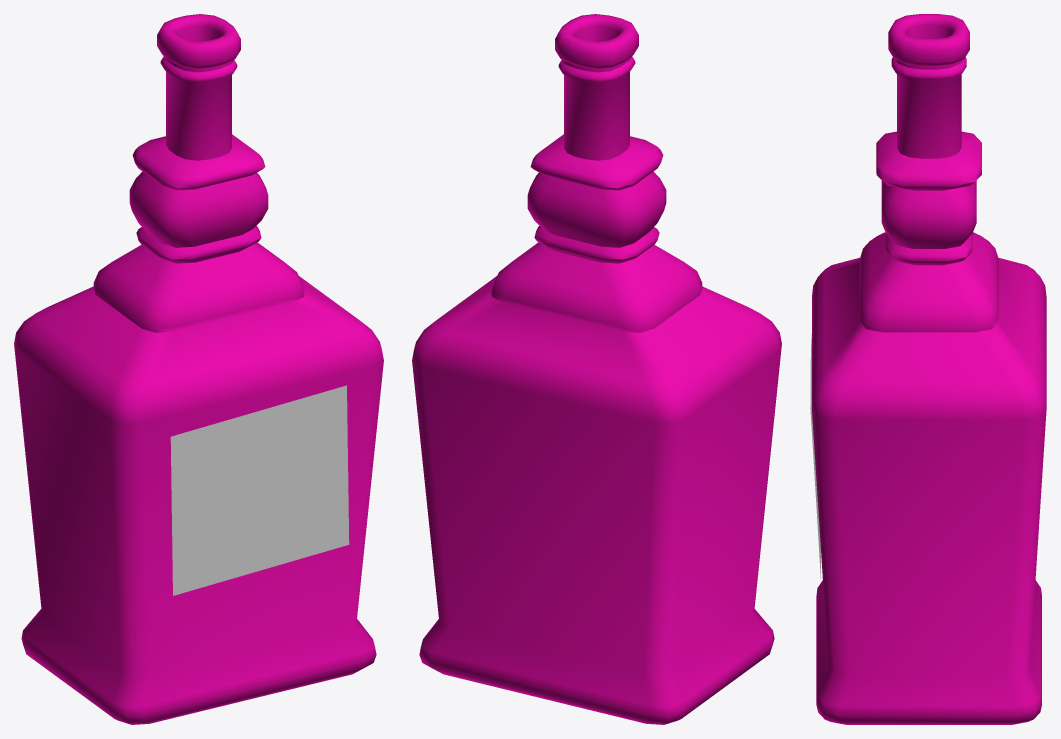
The model's file is Bottle_3.fbx.
3 renders of one model, left to right at view 1: azimuth 30°, elevation 25°; view 2: azimuth 150°, elevation 25°; view 3: azimuth 270°, elevation 25°, orthographic.
Parts seen in each view (by area): view 1: Bottle_3 - Generic; view 2: Bottle_3 - Generic; view 3: Bottle_3 - Generic.
Boxes of the visible parts, x1,y1,x2,y2 form: Bottle_3 - Generic: (14, 14, 383, 724); Bottle_3 - Generic: (412, 14, 781, 724); Bottle_3 - Generic: (810, 14, 1046, 724).
Bounding box in the file's own units: 14.28 × 31.68 × 10.64.
